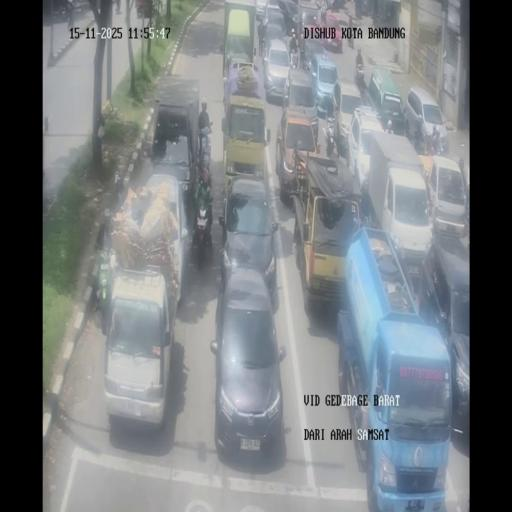3: (338, 230, 450, 507), (293, 154, 364, 314), (358, 131, 429, 269), (148, 79, 203, 217), (222, 1, 256, 82), (366, 66, 405, 132), (334, 79, 366, 153)
car: (211, 268, 286, 463), (102, 267, 175, 431), (218, 176, 278, 299), (275, 105, 318, 202), (425, 154, 467, 236), (308, 51, 341, 116), (262, 38, 292, 102), (297, 18, 325, 68), (320, 11, 350, 52), (261, 3, 290, 38), (254, 0, 267, 21)
truck: (93, 241, 116, 328), (191, 199, 214, 268), (199, 127, 212, 171), (412, 125, 426, 154), (112, 171, 125, 202), (355, 60, 366, 95), (257, 15, 266, 56), (326, 126, 336, 158), (347, 13, 355, 49), (61, 0, 74, 21), (426, 133, 437, 156), (289, 45, 299, 69), (152, 0, 162, 16), (320, 4, 327, 25), (136, 1, 144, 18), (361, 0, 369, 16), (114, 0, 121, 14)
